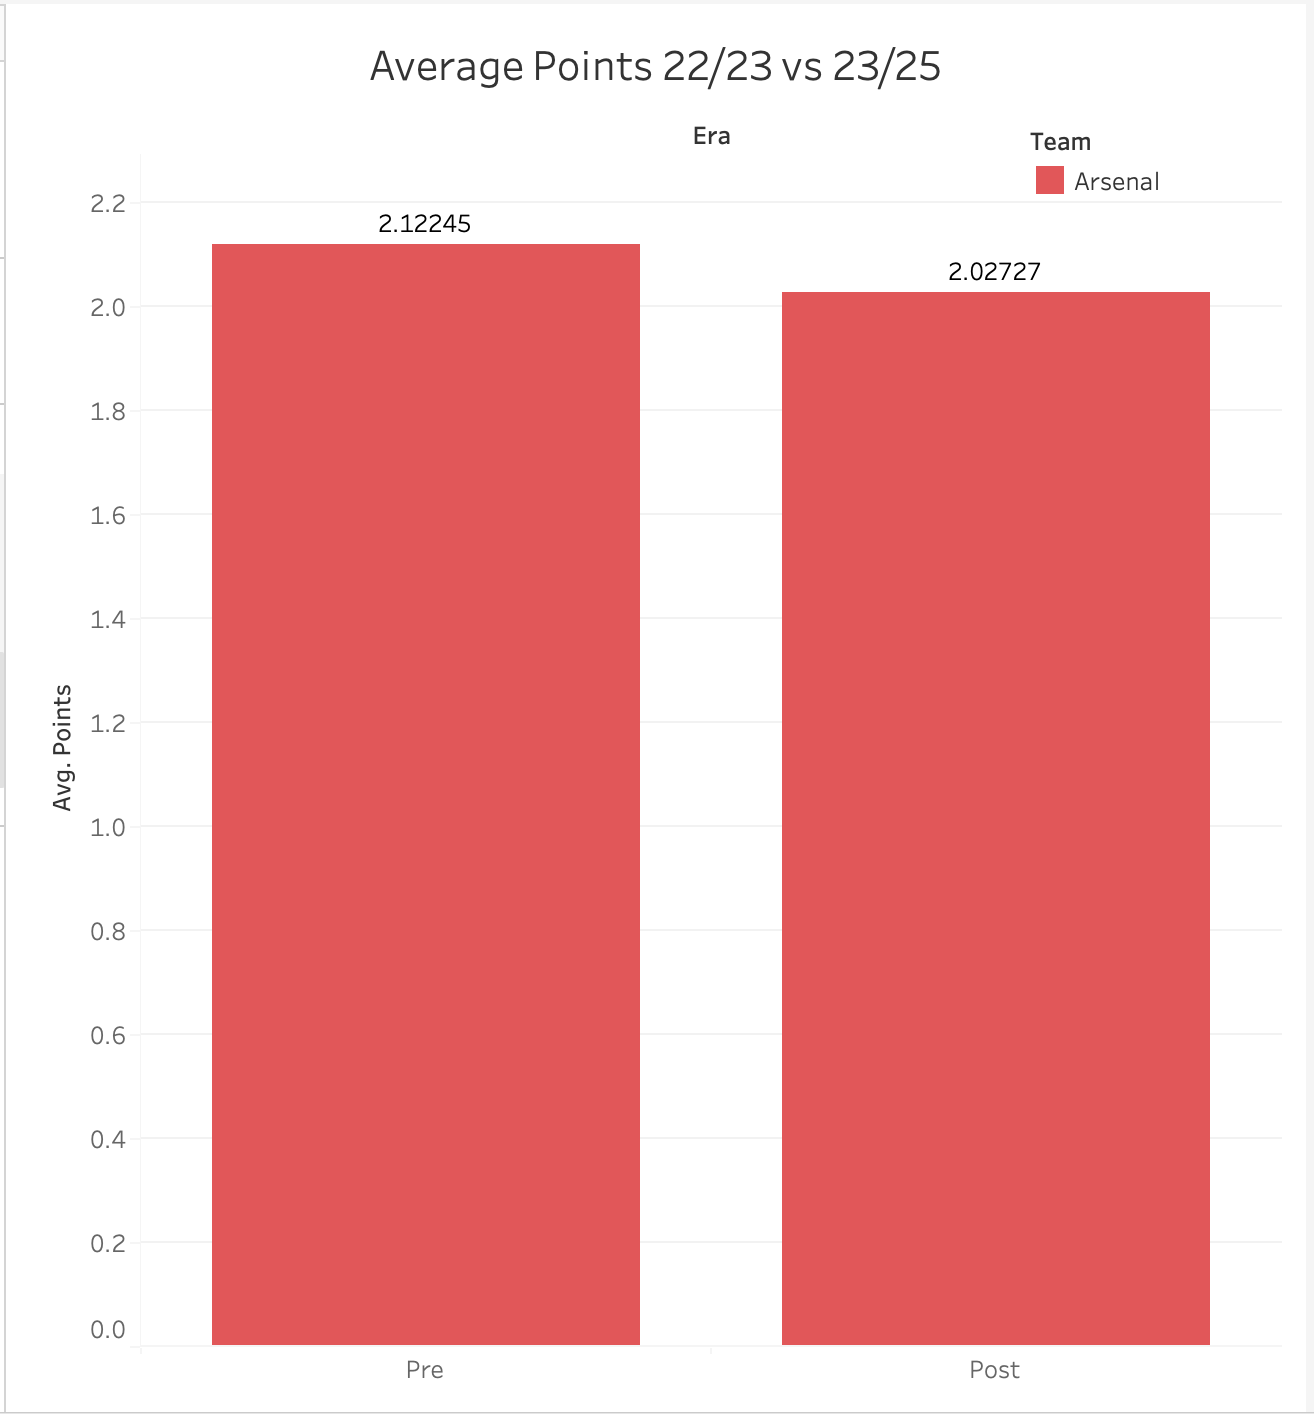

Layout of this report page (visuals, bound fields, positions):
{"tool":"tableau","page":{"name":"Dashboard 1","canvas":[650,860],"ordinal":0},"visuals":[{"type":"worksheet","title":"Average Points 22/23 vs 23/25","mark":"Automatic","rows":["Points"],"cols":["era"],"box":[8,9.8,634,840.5]}]}

Visuals, with their boxes on the page's 650x860 design canvas (x1, y1, x2, y2). These are canvas units, not pixel positions in the 1314x1414 screenshot, which may show the page scaled, cropped or inside an application window:
"Average Points 22/23 vs 23/25" worksheet: (8,10,642,850)
